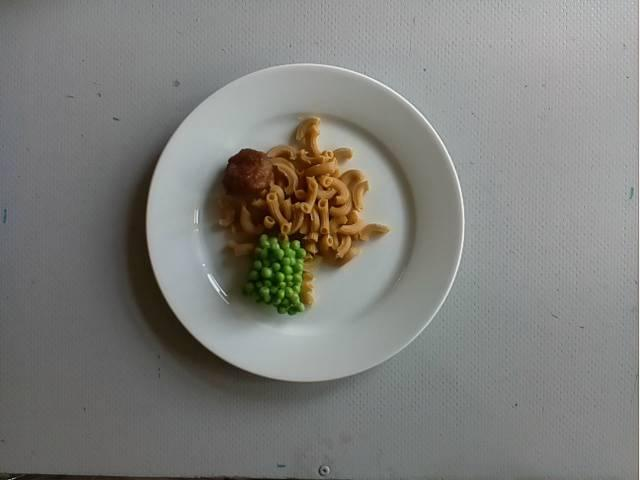Full grain pasta + peas + meatball: (209, 120, 382, 313)
